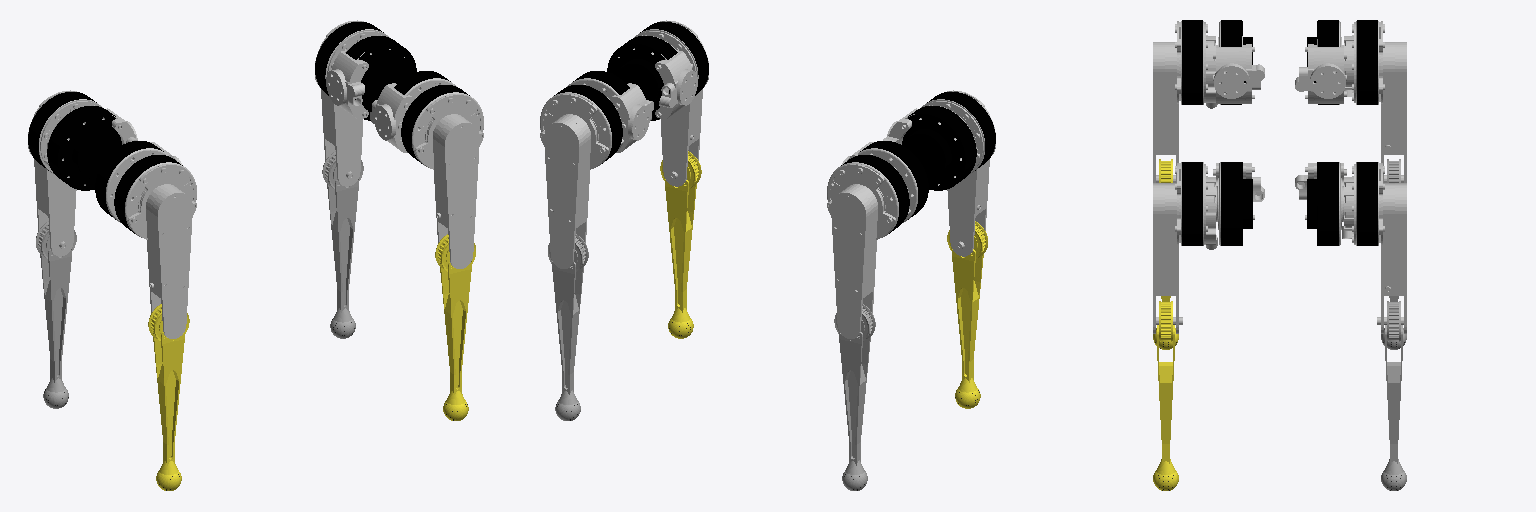
URDF robot description (mini_cheetah):
<?xml version="1.0" encoding="utf-8"?>
<!-- =================================================================================== -->
<!-- |    This document was autogenerated by xacro from urdf/paws/mini_cheetah.urdf.xacro | -->
<!-- |    EDITING THIS FILE BY HAND IS NOT RECOMMENDED                                 | -->
<!-- =================================================================================== -->
<robot name="mini_cheetah">
  <material name="darkgray">
    <color rgba=".2 .2 .2 1"/>
  </material>
  <link name="body">
    <inertial>
      <mass value="2.538"/>
      <origin xyz="0.0 0.0 0.0"/>
      <inertia ixx="0.01801375" ixy="0" ixz="0.000424826" iyy="0.052344195" iyz="0" izz="0.063719013"/>
    </inertial>
    <visual>
      <geometry>
        <mesh filename="package://quadruped_ctrl/urdf/mini_cheetah/meshes/paws_body.dae"/>
      </geometry>
      <origin rpy="0.0 0.0 0.0" xyz="0.0 0.0 0.0"/>
    </visual>
    <collision>
      <geometry>
        <mesh filename="package://quadruped_ctrl/urdf/mini_cheetah/meshes/paws_body.dae"/>
      </geometry>
      <origin rpy="0 0 0" xyz="0 0 0"/>
    </collision>
  </link>
  <!--!!!!!!!!!!!!!!!!!!!!!   FR LEG   !!!!!!!!!!!!!!!!!!!!!!!!!!!!!!!!!!!!-->
  <joint name="torso_to_abduct_fr_j" type="revolute">
    <limit lower="-0.35" upper="0.35"/>
    <axis xyz="1 0 0"/>
    <origin rpy="0 0 0" xyz="0.1337 -0.05599 0.005969"/>
    <parent link="body"/>
    <child link="abduct_fr"/>
  </joint>
  <link name="abduct_fr">
    <inertial>
      vvvvvvvvvvvvvvvvvvvvvvvvvvvvvvvvvvvvvvvvvvvvvvvvvvvvvvvvvvvvvvvvvvvv
            
      <mass value="0.7"/>
      <origin xyz="0.0015 0.052 0.0"/>
      <inertia ixx="0.000815672" ixy="-0.000001753" ixz="0.000000117" iyy="0.0004467" iyz="-0.00000015" izz="0.000526032"/>
    </inertial>
    <visual>
      <geometry>
        <mesh filename="package://quadruped_ctrl/urdf/mini_cheetah/meshes/paws_hip.dae"/>
      </geometry>
      <origin rpy="3.141592 0 1.5708" xyz="0.0 0.0 0.0"/>
    </visual>
    <collision>
      <geometry>
        <mesh filename="package://quadruped_ctrl/urdf/mini_cheetah/meshes/paws_hip.dae"/>
      </geometry>
      <origin rpy="3.141592 0 1.5708" xyz="0.0 0 0"/>
    </collision>
  </link>
  <joint name="abduct_fr_to_thigh_fr_j" type="continuous">
    <axis xyz="0 -1 0"/>
    <origin rpy="0.0 0.0 0.0" xyz="0.055 -0.017 0.0"/>
    <parent link="abduct_fr"/>
    <child link="thigh_fr"/>
  </joint>
  <link name="thigh_fr">
    <inertial>
      <mass value="0.884"/>
      <origin xyz="-0.011186 -0.032393 0.0"/>
      <inertia ixx="0.00068084" ixy="-0.000257679" ixz="0.000003178" iyy="0.001766531" iyz="0.000003516" izz="0.001619267"/>
    </inertial>
    <visual>
      <geometry>
        <mesh filename="package://quadruped_ctrl/urdf/mini_cheetah/meshes/paws_knee.dae"/>
      </geometry>
      <origin rpy="0.0 -1.5708 0.0" xyz="0.0 0.0 0.0"/>
    </visual>
    <collision>
      <geometry>
        <mesh filename="package://quadruped_ctrl/urdf/mini_cheetah/meshes/paws_knee.dae"/>
      </geometry>
      <origin rpy="0 -1.5708 0" xyz="0 0 0"/>
    </collision>
  </link>
  <joint name="thigh_fr_to_knee_fr_j" type="continuous">
    <axis xyz="0 -1 0"/>
    <origin rpy="0.0 0 0.0" xyz="0 -0.0595 -0.15"/>
    <parent link="thigh_fr"/>
    <child link="shank_fr"/>
  </joint>
  <link name="shank_fr">
    <inertial>
      <mass value="0.063"/>
      <origin xyz="0.0 0.0 -0.209"/>
      <inertia ixx="0.000719905" ixy="0" ixz="0.0" iyy="0.000726173" iyz="0" izz="0.000014957"/>
    </inertial>
    <visual>
      <geometry>
        <mesh filename="package://quadruped_ctrl/urdf/mini_cheetah/meshes/paws_feet.dae"/>
      </geometry>
      <origin rpy="0.0 3.141592 0.0" xyz="0.0 0.0 0.0"/>
    </visual>
    <collision>
      <geometry>
        <mesh filename="package://quadruped_ctrl/urdf/mini_cheetah/meshes/paws_feet.dae"/>
      </geometry>
      <origin rpy="0 3.141592 0" xyz="0 0 0"/>
    </collision>
  </link>
  <joint name="toe_fr_joint" type="fixed">
    <parent link="shank_fr"/>
    <child link="toe_fr"/>
    <origin xyz="0 0 -0.202"/>
    <dynamics damping="0.0" friction="0.0"/>
  </joint>
  <link name="toe_fr">
    <contact>
      <friction_anchor/>
      <stiffness value="30000.0"/>
      <damping value="1000.0"/>
      <spinning_friction value="0.3"/>
      <lateral_friction value="3.0"/>
    </contact>
    <visual>
      <origin rpy="0 0 0" xyz="0 0 0"/>
      <geometry>
        <sphere radius="0.015"/>
      </geometry>
      <material name="darkgray"/>
    </visual>
    <collision>
      <origin rpy="0 0 0" xyz="0 0 0"/>
      <geometry>
        <sphere radius="0.015"/>
      </geometry>
    </collision>
    <inertial>
      <mass value="0.05"/>
      <inertia ixx="0.000025" ixy="0" ixz="0" iyy="0.000025" iyz="0" izz="0.000025"/>
    </inertial>
  </link>
  <!--!!!!!!!!!!!!!!!!!!!!!   FL LEG   !!!!!!!!!!!!!!!!!!!!!!!!!!!!!!!!!!!!-->
  <joint name="torso_to_abduct_fl_j" type="revolute">
    <limit lower="-0.35" upper="0.35"/>
    <axis xyz="1 0 0"/>
    <origin rpy="0 0 0" xyz="0.1337 0.05599 0.005969"/>
    <parent link="body"/>
    <child link="abduct_fl"/>
  </joint>
  <link name="abduct_fl">
    <inertial>
      <mass value="0.7"/>
      <origin xyz="0.0015 0.052 0.0"/>
      <inertia ixx="0.000815672" ixy="-0.000001753" ixz="0.000000117" iyy="0.0004467" iyz="-0.00000015" izz="0.000526032"/>
    </inertial>
    <visual>
      <geometry>
        <mesh filename="package://quadruped_ctrl/urdf/mini_cheetah/meshes/paws_hip.dae"/>
      </geometry>
      <origin rpy="0.0 0.0 -1.5708" xyz="0.0 0.0 0.0"/>
    </visual>
    <collision>
      <geometry>
        <mesh filename="package://quadruped_ctrl/urdf/mini_cheetah/meshes/paws_hip.dae"/>
      </geometry>
      <origin rpy="0.0 0.0 -1.5708" xyz="0.0 0.0 0.0"/>
    </collision>
  </link>
  <joint name="abduct_fl_to_thigh_fl_j" type="continuous">
    <axis xyz="0 -1 0"/>
    <origin rpy="0.0 0.0 0.0" xyz="0.055 0.017 0.0"/>
    <parent link="abduct_fl"/>
    <child link="thigh_fl"/>
  </joint>
  <link name="thigh_fl">
    <inertial>
      <mass value="0.884"/>
      <origin xyz="-0.011186 -0.032393 0.0"/>
      <inertia ixx="0.00068084" ixy="-0.000257679" ixz="0.000003178" iyy="0.001766531" iyz="0.000003516" izz="0.001619267"/>
    </inertial>
    <visual>
      <geometry>
        <mesh filename="package://quadruped_ctrl/urdf/mini_cheetah/meshes/paws_knee.dae"/>
      </geometry>
      <origin rpy="3.141592 -1.5708 0.0" xyz="0.0 0.0 0.0"/>
    </visual>
    <collision>
      <geometry>
        <mesh filename="package://quadruped_ctrl/urdf/mini_cheetah/meshes/paws_knee.dae"/>
      </geometry>
      <origin rpy="3.141592 -1.5708 0" xyz="0 0 0"/>
    </collision>
  </link>
  <joint name="thigh_fl_to_knee_fl_j" type="continuous">
    <axis xyz="0 -1 0"/>
    <origin rpy="0.0 0 0.0" xyz="0 0.0595 -0.15"/>
    <parent link="thigh_fl"/>
    <child link="shank_fl"/>
  </joint>
  <link name="shank_fl">
    <inertial>
      <mass value="0.063"/>
      <origin xyz="0.0 0.0 -0.209"/>
      <inertia ixx="0.000719905" ixy="0" ixz="0.0" iyy="0.000726173" iyz="0" izz="0.000014957"/>
    </inertial>
    <visual>
      <geometry>
        <mesh filename="package://quadruped_ctrl/urdf/mini_cheetah/meshes/paws_feet.dae"/>
      </geometry>
      <origin rpy="0.0 3.141592 0.0" xyz="0.0 0.0 0.0"/>
    </visual>
    <collision>
      <geometry>
        <mesh filename="package://quadruped_ctrl/urdf/mini_cheetah/meshes/paws_feet.dae"/>
      </geometry>
      <origin rpy="0 3.141592 0" xyz="0 0 0"/>
    </collision>
  </link>
  <joint name="toe_fl_joint" type="fixed">
    <parent link="shank_fl"/>
    <child link="toe_fl"/>
    <origin xyz="0 0 -0.202"/>
    <dynamics damping="0.0" friction="0.0"/>
  </joint>
  <link name="toe_fl">
    <contact>
      <friction_anchor/>
      <stiffness value="30000.0"/>
      <damping value="1000.0"/>
      <spinning_friction value="0.3"/>
      <lateral_friction value="3.0"/>
    </contact>
    <visual>
      <origin rpy="0 0 0" xyz="0 0 0"/>
      <geometry>
        <sphere radius="0.015"/>
      </geometry>
      <material name="darkgray"/>
    </visual>
    <collision>
      <origin rpy="0 0 0" xyz="0 0 0"/>
      <geometry>
        <sphere radius="0.015"/>
      </geometry>
    </collision>
    <inertial>
      <mass value="0.15"/>
      <inertia ixx="0.000025" ixy="0" ixz="0" iyy="0.000025" iyz="0" izz="0.000025"/>
    </inertial>
  </link>
  <!--!!!!!!!!!!!!!!!!!!!!!   RR LEG   !!!!!!!!!!!!!!!!!!!!!!!!!!!!!!!!!!!!-->
  <joint name="torso_to_abduct_hr_j" type="revolute">
    <limit lower="-0.35" upper="0.35"/>
    <axis xyz="1 0 0"/>
    <origin rpy="0 0 0" xyz="-0.14529 -0.05599 0.005969"/>
    <parent link="body"/>
    <child link="abduct_hr"/>
  </joint>
  <link name="abduct_hr">
    <inertial>
      <mass value="0.7"/>
      <origin xyz="0.0015 0.052 0.0"/>
      <inertia ixx="0.000815672" ixy="-0.000001753" ixz="0.000000117" iyy="0.0004467" iyz="-0.00000015" izz="0.000526032"/>
    </inertial>
    <visual>
      <geometry>
        <mesh filename="package://quadruped_ctrl/urdf/mini_cheetah/meshes/paws_hip.dae"/>
      </geometry>
      <origin rpy="0.0 0.0 1.5708" xyz="0 0.0 0.0"/>
    </visual>
    <collision>
      <geometry>
        <mesh filename="package://quadruped_ctrl/urdf/mini_cheetah/meshes/paws_hip.dae"/>
      </geometry>
      <origin rpy="0 0 1.5708" xyz="0 0 0"/>
    </collision>
  </link>
  <joint name="abduct_hr_to_thigh_hr_j" type="continuous">
    <axis xyz="0 -1 0"/>
    <origin rpy="0.0 0.0 0.0" xyz="-0.055 -0.017 0.0"/>
    <parent link="abduct_hr"/>
    <child link="thigh_hr"/>
  </joint>
  <link name="thigh_hr">
    <inertial>
      <mass value="0.884"/>
      <origin xyz="-0.011186 -0.032393 0.0"/>
      <inertia ixx="0.00068084" ixy="-0.000257679" ixz="0.000003178" iyy="0.001766531" iyz="0.000003516" izz="0.001619267"/>
    </inertial>
    <visual>
      <geometry>
        <mesh filename="package://quadruped_ctrl/urdf/mini_cheetah/meshes/paws_knee.dae"/>
      </geometry>
      <origin rpy="0.0 -1.5708 0.0" xyz="0.0 0.0 0.0"/>
    </visual>
    <collision>
      <geometry>
        <mesh filename="package://quadruped_ctrl/urdf/mini_cheetah/meshes/paws_knee.dae"/>
      </geometry>
      <origin rpy="0 -1.5708 0" xyz="0 0 0"/>
    </collision>
  </link>
  <joint name="thigh_hr_to_knee_hr_j" type="continuous">
    <axis xyz="0 -1 0"/>
    <origin rpy="0.0 0 0.0" xyz="0 -0.0595 -0.15"/>
    <parent link="thigh_hr"/>
    <child link="shank_hr"/>
  </joint>
  <link name="shank_hr">
    <inertial>
      <mass value="0.063"/>
      <origin xyz="0.0 0.0 -0.209"/>
      <inertia ixx="0.000719905" ixy="0" ixz="0.0" iyy="0.000726173" iyz="0" izz="0.000014957"/>
    </inertial>
    <visual>
      <geometry>
        <mesh filename="package://quadruped_ctrl/urdf/mini_cheetah/meshes/paws_feet.dae"/>
      </geometry>
      <origin rpy="0.0 3.141592 0.0" xyz="0.0 0.0 0.0"/>
    </visual>
    <collision>
      <geometry>
        <mesh filename="package://quadruped_ctrl/urdf/mini_cheetah/meshes/paws_feet.dae"/>
      </geometry>
      <origin rpy="0 3.141592 0" xyz="0 0 0"/>
    </collision>
  </link>
  <joint name="toe_hr_joint" type="fixed">
    <parent link="shank_hr"/>
    <child link="toe_hr"/>
    <origin xyz="0 0 -0.202"/>
    <dynamics damping="0.0" friction="0.0"/>
  </joint>
  <link name="toe_hr">
    <contact>
      <friction_anchor/>
      <stiffness value="30000.0"/>
      <damping value="1000.0"/>
      <spinning_friction value="0.3"/>
      <lateral_friction value="3.0"/>
    </contact>
    <visual>
      <origin rpy="0 0 0" xyz="0 0 0"/>
      <geometry>
        <sphere radius="0.015"/>
      </geometry>
      <material name="darkgray"/>
    </visual>
    <collision>
      <origin rpy="0 0 0" xyz="0 0 0"/>
      <geometry>
        <sphere radius="0.015"/>
      </geometry>
    </collision>
    <inertial>
      <mass value="0.15"/>
      <inertia ixx="0.000025" ixy="0" ixz="0" iyy="0.000025" iyz="0" izz="0.000025"/>
    </inertial>
  </link>
  <!--!!!!!!!!!!!!!!!!!!!!!   RL LEG   !!!!!!!!!!!!!!!!!!!!!!!!!!!!!!!!!!!!-->
  <joint name="torso_to_abduct_hl_j" type="revolute">
    <limit lower="-0.35" upper="0.35"/>
    <axis xyz="1 0 0"/>
    <origin rpy="0 0 0" xyz="-0.14529 0.05599 0.005969"/>
    <parent link="body"/>
    <child link="abduct_hl"/>
  </joint>
  <link name="abduct_hl">
    <inertial>
      <mass value="0.7"/>
      <origin xyz="0.0015 0.052 0.0"/>
      <inertia ixx="0.000815672" ixy="-0.000001753" ixz="0.000000117" iyy="0.0004467" iyz="-0.00000015" izz="0.000526032"/>
    </inertial>
    <visual>
      <geometry>
        <mesh filename="package://quadruped_ctrl/urdf/mini_cheetah/meshes/paws_hip.dae"/>
      </geometry>
      <origin rpy="3.141592 0.0 -1.5708" xyz="0.0 0.0 0.0"/>
    </visual>
    <collision>
      <geometry>
        <mesh filename="package://quadruped_ctrl/urdf/mini_cheetah/meshes/paws_hip.dae"/>
      </geometry>
      <origin rpy="3.141592 0 -1.5708" xyz="0.0 0 0"/>
    </collision>
  </link>
  <joint name="abduct_hl_to_thigh_hl_j" type="continuous">
    <axis xyz="0 -1 0"/>
    <origin rpy="0.0 0.0 0.0" xyz="-0.055 0.017 0.0"/>
    <parent link="abduct_hl"/>
    <child link="thigh_hl"/>
  </joint>
  <link name="thigh_hl">
    <inertial>
      <mass value="0.884"/>
      <origin xyz="-0.011186 -0.032393 0.0"/>
      <inertia ixx="0.00068084" ixy="-0.000257679" ixz="0.000003178" iyy="0.001766531" iyz="0.000003516" izz="0.001619267"/>
    </inertial>
    <visual>
      <geometry>
        <mesh filename="package://quadruped_ctrl/urdf/mini_cheetah/meshes/paws_knee.dae"/>
      </geometry>
      <origin rpy="3.141592 -1.5708 0.0" xyz="0.0 0.0 0.0"/>
    </visual>
    <collision>
      <geometry>
        <mesh filename="package://quadruped_ctrl/urdf/mini_cheetah/meshes/paws_knee.dae"/>
      </geometry>
      <origin rpy="3.141592 -1.5708 0" xyz="0 0 0"/>
    </collision>
  </link>
  <joint name="thigh_hl_to_knee_hl_j" type="continuous">
    <axis xyz="0 -1 0"/>
    <origin rpy="0.0 0 0.0" xyz="0 0.0595 -0.15"/>
    <parent link="thigh_hl"/>
    <child link="shank_hl"/>
  </joint>
  <link name="shank_hl">
    <inertial>
      <mass value="0.063"/>
      <origin xyz="0.0 0.0 -0.209"/>
      <inertia ixx="0.000719905" ixy="0" ixz="0.0" iyy="0.000726173" iyz="0" izz="0.000014957"/>
    </inertial>
    <visual>
      <geometry>
        <mesh filename="package://quadruped_ctrl/urdf/mini_cheetah/meshes/paws_feet.dae"/>
      </geometry>
      <origin rpy="0.0 3.141592 0.0" xyz="0.0 0.0 0.0"/>
    </visual>
    <collision>
      <geometry>
        <mesh filename="package://quadruped_ctrl/urdf/mini_cheetah/meshes/paws_feet.dae"/>
      </geometry>
      <origin rpy="0 3.141592 0" xyz="0 0 0"/>
    </collision>
  </link>
  <joint name="toe_hl_joint" type="fixed">
    <parent link="shank_hl"/>
    <child link="toe_hl"/>
    <origin xyz="0 0 -0.202"/>
    <dynamics damping="0.0" friction="0.0"/>
  </joint>
  <link name="toe_hl">
    <contact>
      <friction_anchor/>
      <stiffness value="30000.0"/>
      <damping value="1000.0"/>
      <spinning_friction value="0.3"/>
      <lateral_friction value="3.0"/>
    </contact>
    <visual>
      <origin rpy="0 0 0" xyz="0 0 0"/>
      <geometry>
        <sphere radius="0.015"/>
      </geometry>
      <material name="darkgray"/>
    </visual>
    <collision>
      <origin rpy="0 0 0" xyz="0 0 0"/>
      <geometry>
        <sphere radius="0.015"/>
      </geometry>
    </collision>
    <inertial>
      <mass value="0.15"/>
      <inertia ixx="0.000025" ixy="0" ixz="0" iyy="0.000025" iyz="0" izz="0.000025"/>
    </inertial>
  </link>
</robot>

--- Facts derived from the render (not from the file) ---
The picture shows the robot from 3 angles, left to right: view 1: azimuth 30°, elevation 25°; view 2: azimuth 150°, elevation 25°; view 3: azimuth 270°, elevation 25°; orthographic projection.
Robot: mini_cheetah — 17 links, 16 joints (4 revolute, 8 continuous, 4 fixed); root link body; default pose: all joints at 0.
Links seen in each view (by area): view 1: thigh_fr, thigh_hr, abduct_hl, thigh_hl, abduct_fl, thigh_fl, shank_hr, shank_hl, shank_fr, shank_fl, abduct_fr, abduct_hr; view 2: thigh_fl, thigh_hl, abduct_hr, thigh_hr, abduct_fr, thigh_fr, shank_hr, shank_hl, shank_fr, shank_fl, abduct_fl, abduct_hl; view 3: thigh_fr, thigh_fl, thigh_hr, thigh_hl, abduct_hl, abduct_hr, abduct_fr, abduct_fl, shank_fr, shank_fl, shank_hr, shank_hl.
Boxes of the visible links, box(x1,y1,x2,y2) form: thigh_fr: box(401, 85, 483, 268); thigh_hr: box(114, 155, 196, 338); abduct_hl: box(47, 105, 137, 190); thigh_hl: box(28, 90, 102, 256); abduct_fl: box(326, 35, 416, 120); thigh_fl: box(315, 20, 389, 186); shank_hr: box(148, 304, 189, 490); shank_hl: box(36, 221, 76, 408); shank_fr: box(435, 234, 475, 420); shank_fl: box(322, 151, 363, 338); abduct_fr: box(370, 71, 456, 152); abduct_hr: box(95, 141, 181, 222); thigh_fl: box(540, 85, 623, 268); thigh_hl: box(827, 155, 910, 338); abduct_hr: box(883, 105, 976, 190); thigh_hr: box(921, 90, 995, 256); abduct_fr: box(607, 35, 697, 120); thigh_fr: box(634, 20, 708, 186); shank_hr: box(947, 221, 987, 408); shank_hl: box(834, 304, 875, 490); shank_fr: box(660, 151, 701, 338); shank_fl: box(548, 234, 588, 420); abduct_fl: box(567, 71, 653, 152); abduct_hl: box(842, 141, 928, 222); thigh_fr: box(1153, 162, 1217, 333); thigh_fl: box(1342, 162, 1406, 333); thigh_hr: box(1153, 20, 1217, 182); thigh_hl: box(1344, 20, 1406, 182); abduct_hl: box(1295, 20, 1346, 104); abduct_hr: box(1213, 20, 1264, 104); abduct_fr: box(1213, 162, 1264, 245); abduct_fl: box(1295, 162, 1346, 245); shank_fr: box(1153, 301, 1178, 490); shank_fl: box(1381, 301, 1406, 490); shank_hr: box(1153, 159, 1178, 349); shank_hl: box(1381, 159, 1406, 349).
Bounding box of the posed robot: 0.4869 × 0.295 × 0.416 m (x, y, z).
Meshes: 4 distinct files referenced, 12 mesh visuals loaded (3 Collada DAE); not drawn: 1 (reference not matched to a file when rendering).